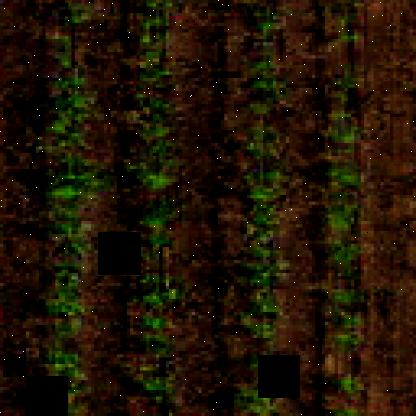sorghum_plant: (312, 0, 368, 416), (127, 0, 181, 416), (38, 0, 86, 416), (237, 3, 285, 416)
